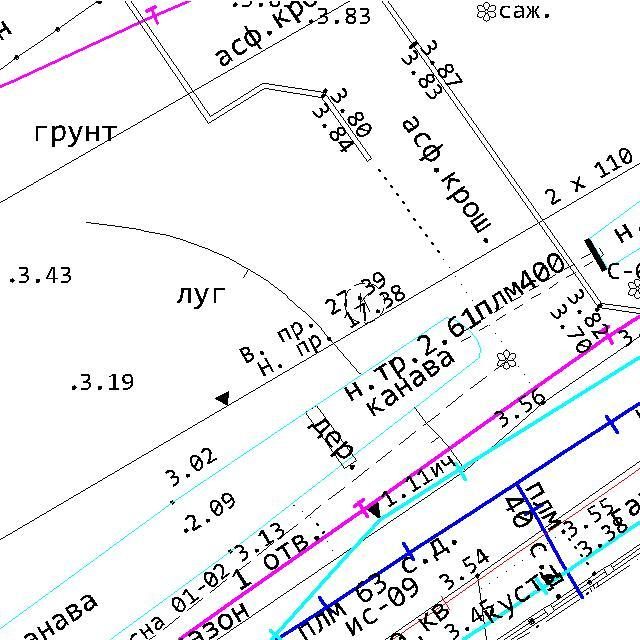asphalt: (214, 24, 274, 68), (401, 114, 445, 174)
bushes: (344, 282, 386, 324), (496, 348, 517, 371), (476, 1, 497, 23)
mark: (366, 502, 383, 522), (214, 390, 231, 408)
